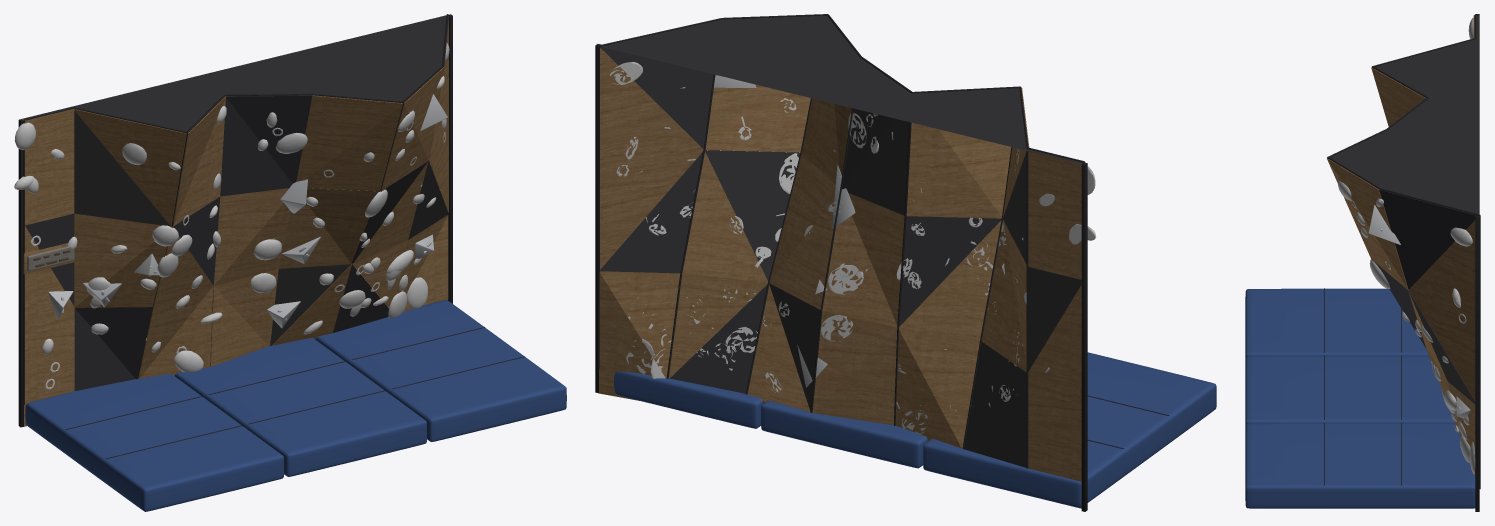
File: boulder.glb
3 views of the same model, side by side, from view 1: azimuth 30°, elevation 25°; view 2: azimuth 150°, elevation 25°; view 3: azimuth 270°, elevation 25° (orthographic). The views are drawn at different scales.
Parts seen in each view (by area): view 1: boulder_pannelli, boulder_materassi, boulder_neri, boulder_bordi, boulder_volumi, presa_gialla, presa_verde, presa_nera, presa_rosa, presa_arancio, presa_blu, presa_bianca (+1 smaller); view 2: boulder_pannelli, boulder_neri, boulder_bordi, boulder_materassi, presa_verde, boulder_volumi, presa_arancio, presa_gialla, presa_rosa, presa_bianca, presa_nera, presa_blu; view 3: boulder_materassi, boulder_bordi, boulder_pannelli, boulder_neri, presa_verde, boulder_volumi, presa_arancio, presa_blu, presa_gialla.
Part boxes in pixels (x1,y1,x2,y2): boulder_pannelli: (24,20,448,426); boulder_materassi: (25,300,566,511); boulder_neri: (25,16,448,390); boulder_bordi: (18,14,452,427); boulder_volumi: (48,94,447,328); presa_gialla: (14,106,413,354); presa_verde: (45,43,449,389); presa_nera: (14,127,282,372); presa_rosa: (61,110,445,334); presa_arancio: (51,76,444,353); presa_blu: (31,119,446,308); presa_bianca: (175,130,422,308); boulder_pannelli: (599,17,1084,508); boulder_neri: (600,47,1081,467); boulder_bordi: (595,14,1087,511); boulder_materassi: (614,352,1216,507); presa_verde: (610,62,988,392); boulder_volumi: (714,75,1009,387); presa_arancio: (643,136,1054,415); presa_gialla: (696,98,1095,406); presa_rosa: (616,148,1019,401); presa_bianca: (636,127,982,357); presa_nera: (627,87,1095,434); presa_blu: (625,132,1026,394); boulder_materassi: (1245,288,1475,508); boulder_bordi: (1327,14,1480,511); boulder_pannelli: (1327,15,1475,476); boulder_neri: (1371,189,1477,404); presa_verde: (1369,227,1472,380); boulder_volumi: (1368,204,1470,418); presa_arancio: (1376,198,1470,463); presa_blu: (1452,288,1475,474); presa_gialla: (1351,17,1473,432).
Bounding box in the file's own units: 6.6 × 4.41 × 3.18.
Materials: 9 (2 with a texture image).
